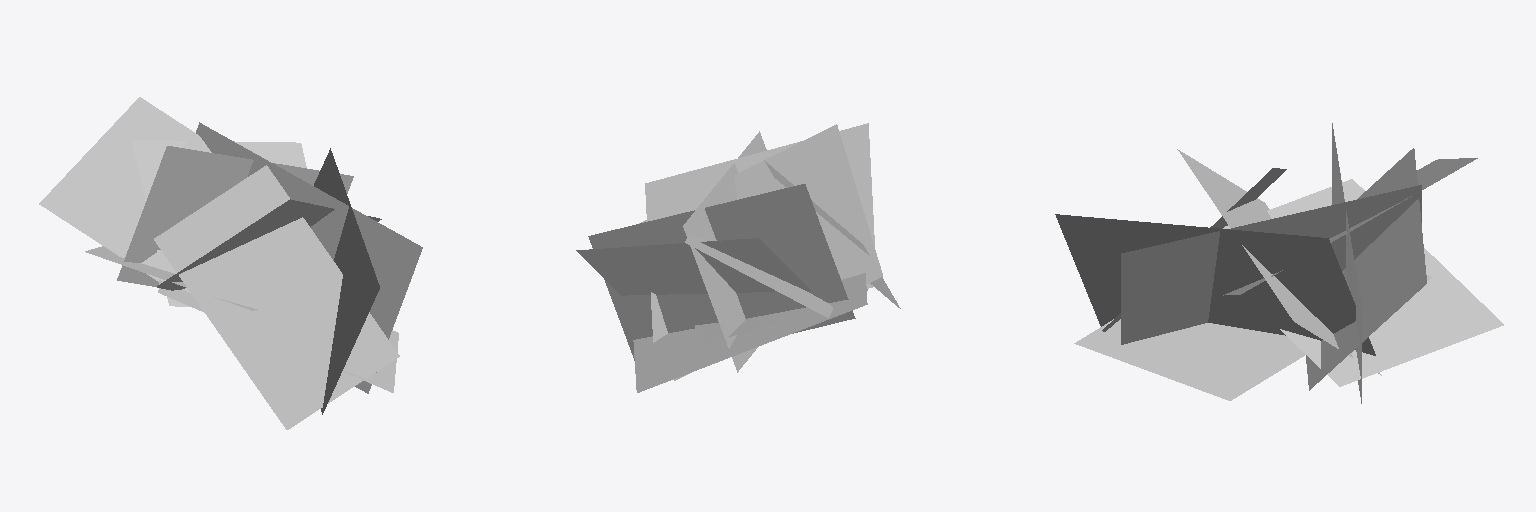
File: BushMed.obj
3 views of the same model, side by side, from view 1: azimuth 30°, elevation 25°; view 2: azimuth 150°, elevation 25°; view 3: azimuth 270°, elevation 25° (orthographic).
Parts seen in each view (by area): view 1: BushMed_bushbig.004; view 2: BushMed_bushbig.004; view 3: BushMed_bushbig.004.
Part boxes in pixels (x1,y1,x2,y2): BushMed_bushbig.004: (39, 97, 422, 429); BushMed_bushbig.004: (576, 123, 900, 392); BushMed_bushbig.004: (1055, 123, 1503, 403).
Bounding box in the file's own units: 1.64 × 1.2 × 2.29.